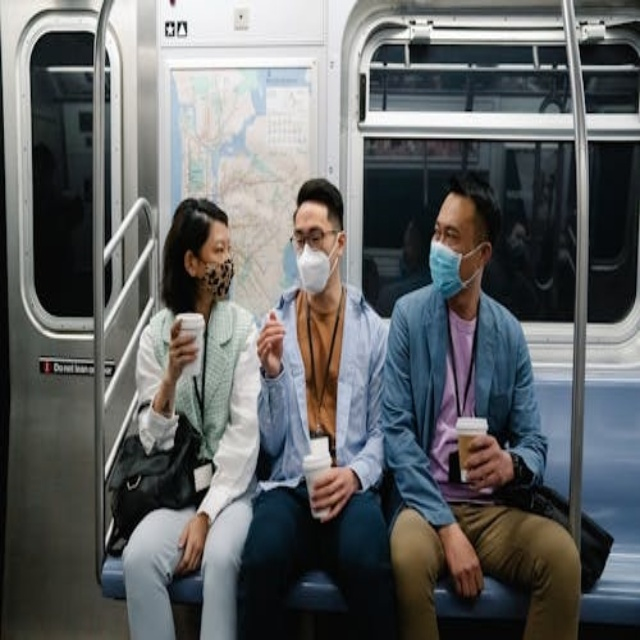Gafas: (291, 229, 341, 251)
Mascara: (428, 237, 483, 299), (296, 239, 339, 295), (198, 256, 235, 298)
Sin_gafas: (434, 213, 467, 244), (204, 236, 234, 259)
Sin_guantes: (465, 429, 513, 500), (445, 523, 485, 603), (175, 511, 205, 573), (255, 315, 287, 367), (166, 323, 198, 373)
